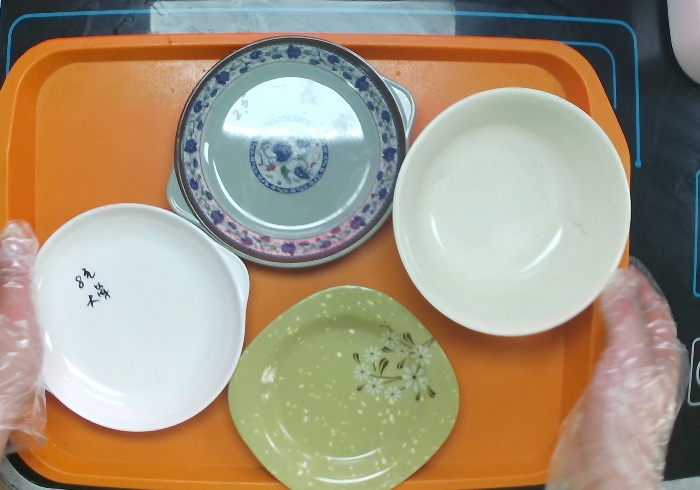NLDX-Bai_Se_Shuang_Er_Die: (24, 201, 252, 435)
NLDX-Bai_Se_Yuan_Wan: (389, 84, 633, 339)
NLDX-Lv_Hua_Fang_Die: (225, 282, 461, 490)
NLDX-Qing_Hua_Shuang_Er_Die: (160, 32, 419, 273)
